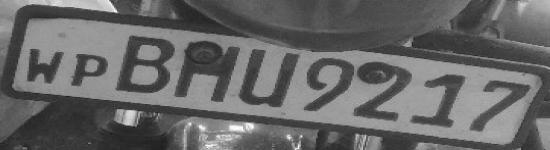1: (414, 72, 468, 128)
2: (356, 60, 413, 123)
7: (470, 78, 532, 134)
9: (301, 56, 355, 114)
B: (112, 33, 176, 94)
H: (175, 36, 241, 106)
P: (71, 51, 112, 91)
U: (241, 47, 299, 108)
W: (23, 47, 67, 86)
